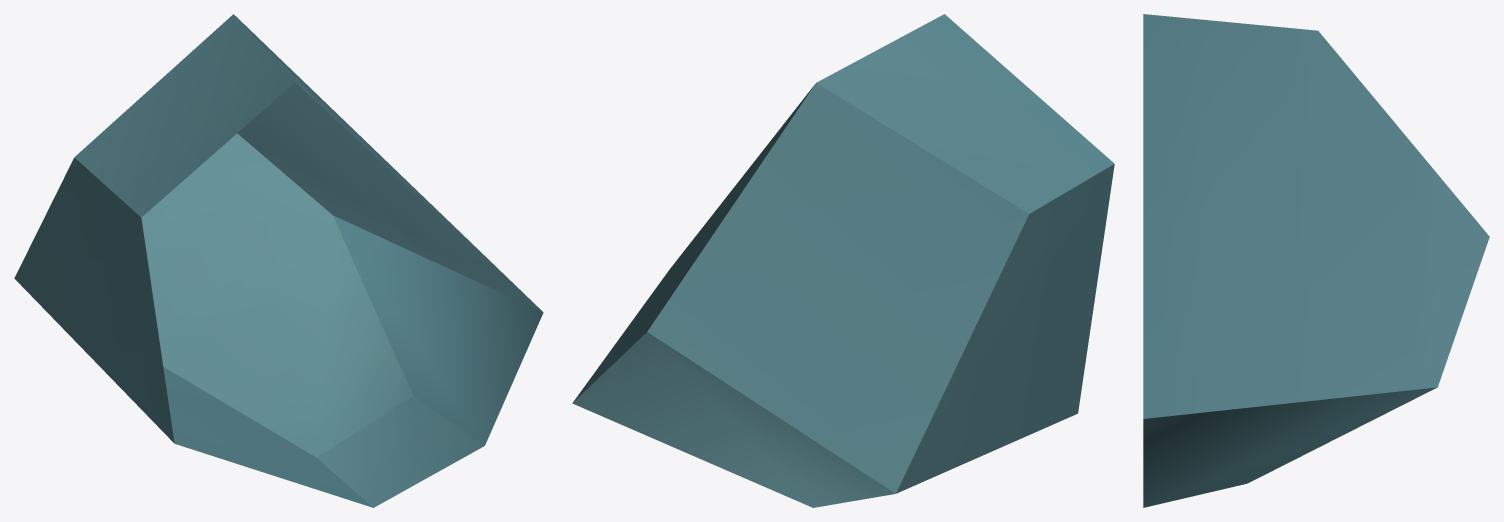
The model's file is Ruin 09.FBX.
3 renders of one model, left to right at view 1: azimuth 30°, elevation 25°; view 2: azimuth 150°, elevation 25°; view 3: azimuth 270°, elevation 25°, orthographic. The views are drawn at different scales.
Visible parts, largest first — view 1: Ruin 09; view 2: Ruin 09; view 3: Ruin 09.
Part boxes in pixels (left/top/right/bottom): Ruin 09: left=14, top=14, right=543, bottom=507; Ruin 09: left=572, top=14, right=1114, bottom=507; Ruin 09: left=1143, top=14, right=1489, bottom=507.
Bounding box in the file's own units: 41.12 × 43.46 × 31.22.
1 material, 1 textured.
